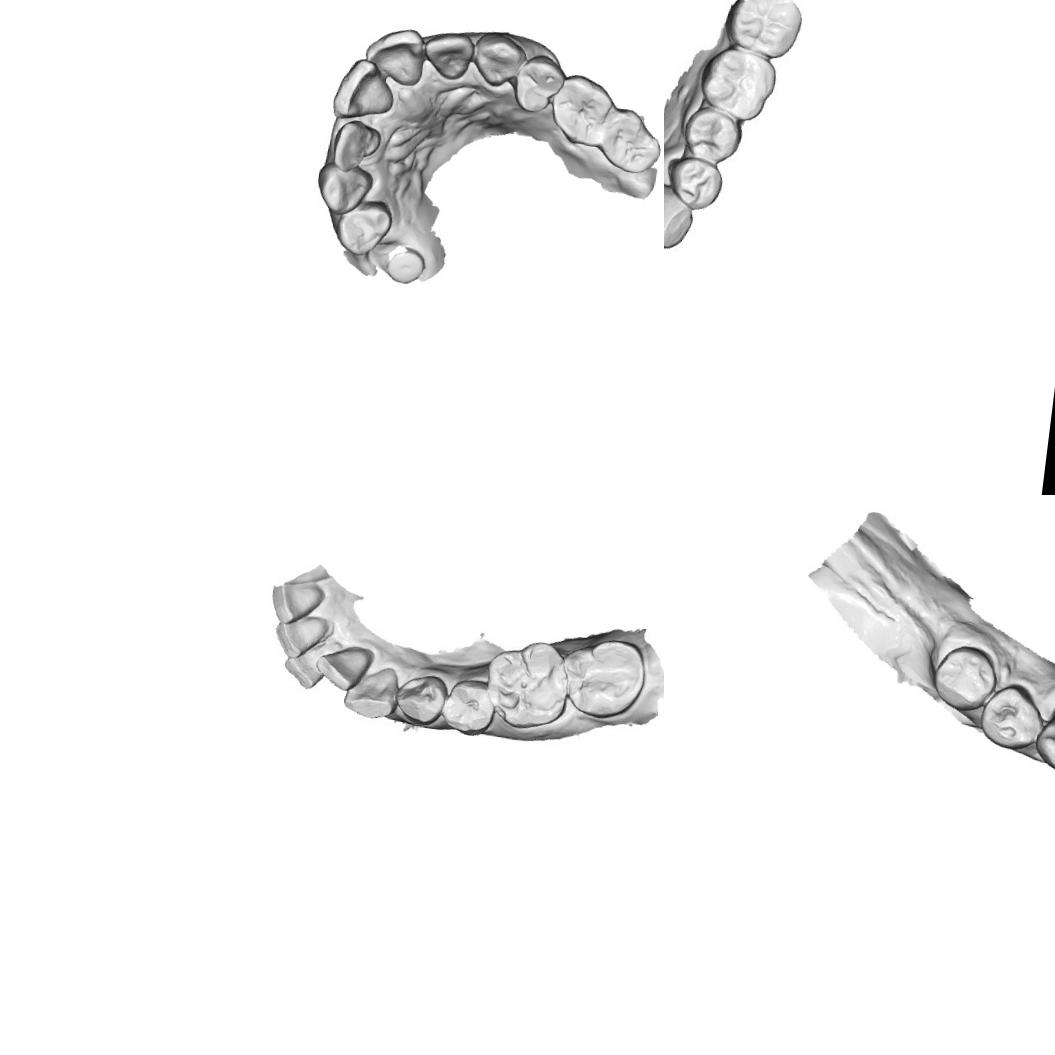canine: (312, 158, 376, 220), (469, 28, 530, 91), (342, 668, 400, 722), (664, 176, 700, 253), (1032, 698, 1055, 777)
implant: (384, 243, 427, 287)
incisor: (330, 55, 400, 126), (360, 23, 428, 88), (420, 27, 477, 83), (329, 116, 383, 175), (284, 642, 333, 688), (322, 645, 369, 691), (276, 613, 327, 654), (270, 579, 321, 618)
molar: (486, 636, 576, 730), (560, 635, 644, 717), (702, 42, 780, 123), (546, 70, 616, 150), (597, 104, 664, 175), (721, 0, 803, 58)
premolar: (977, 680, 1048, 756), (929, 642, 1000, 714), (330, 194, 396, 258), (679, 105, 747, 165), (509, 50, 568, 117), (439, 678, 496, 738), (396, 667, 446, 726), (670, 156, 725, 207)
